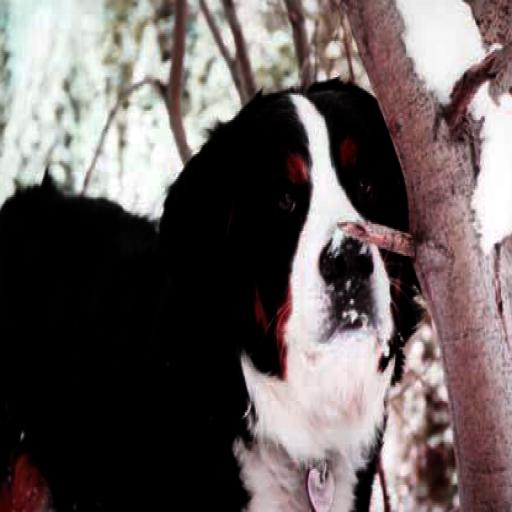dog_face: (172, 84, 422, 358)
